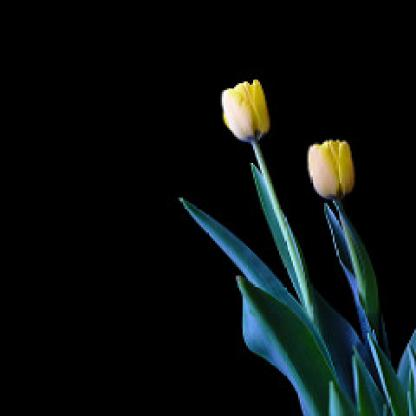TULIP: (174, 48, 412, 408)
